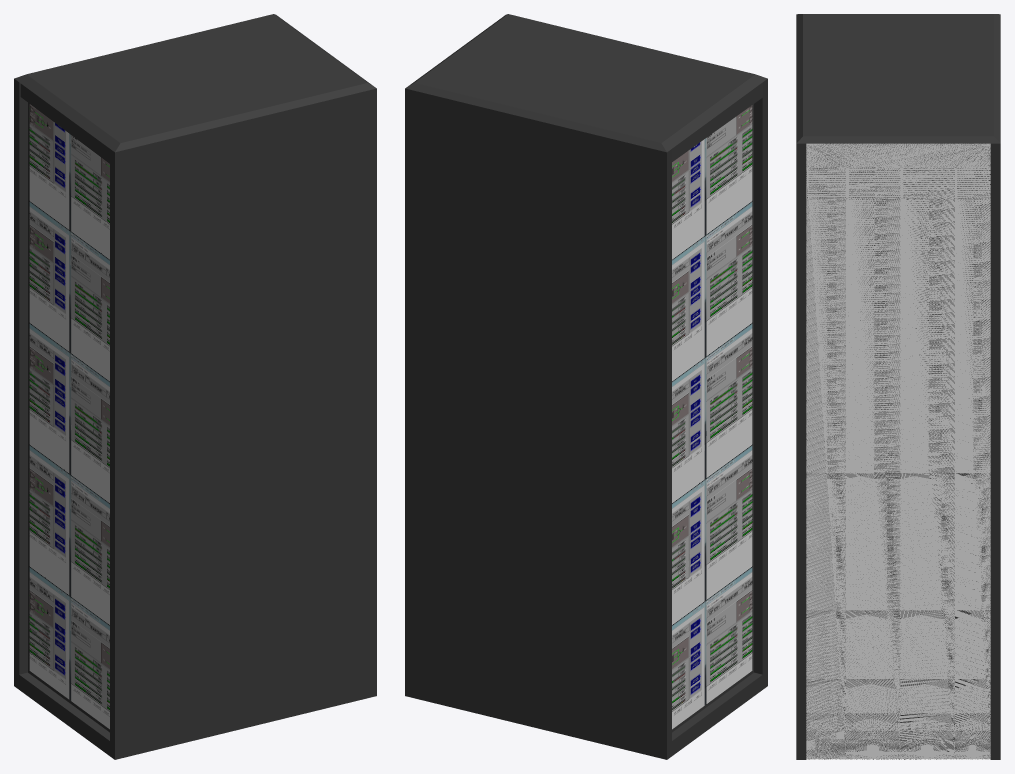
The picture shows the model from 3 angles, left to right: view 1: azimuth 30°, elevation 25°; view 2: azimuth 150°, elevation 25°; view 3: azimuth 270°, elevation 25°; orthographic projection.
Parts seen in each view (by area): view 1: SketchUp (×6), group_3, group_8, group_4, group_6, group_5; view 2: SketchUp (×6), group_4, group_0, group_3, group_7, group_5; view 3: SketchUp (×3), group_0, group_8.
Part boxes in pixels (x1,y1,x2,y2): SketchUp (×6): (14,14,376,755); group_3: (110,147,136,759); group_8: (355,88,376,701); group_4: (14,79,27,689); group_6: (136,94,354,171); group_5: (20,84,109,163); SketchUp (×6): (405,14,767,755); group_4: (645,147,671,759); group_0: (405,88,426,701); group_3: (754,79,767,689); group_7: (427,94,645,171); group_5: (672,82,762,161); SketchUp (×3): (796,14,1000,758); group_0: (990,143,1000,759); group_8: (796,143,806,759).
Size of the model in its own units: 35.43 by 23.62 by 79.13.
Materials: 5 (1 with a texture image).
